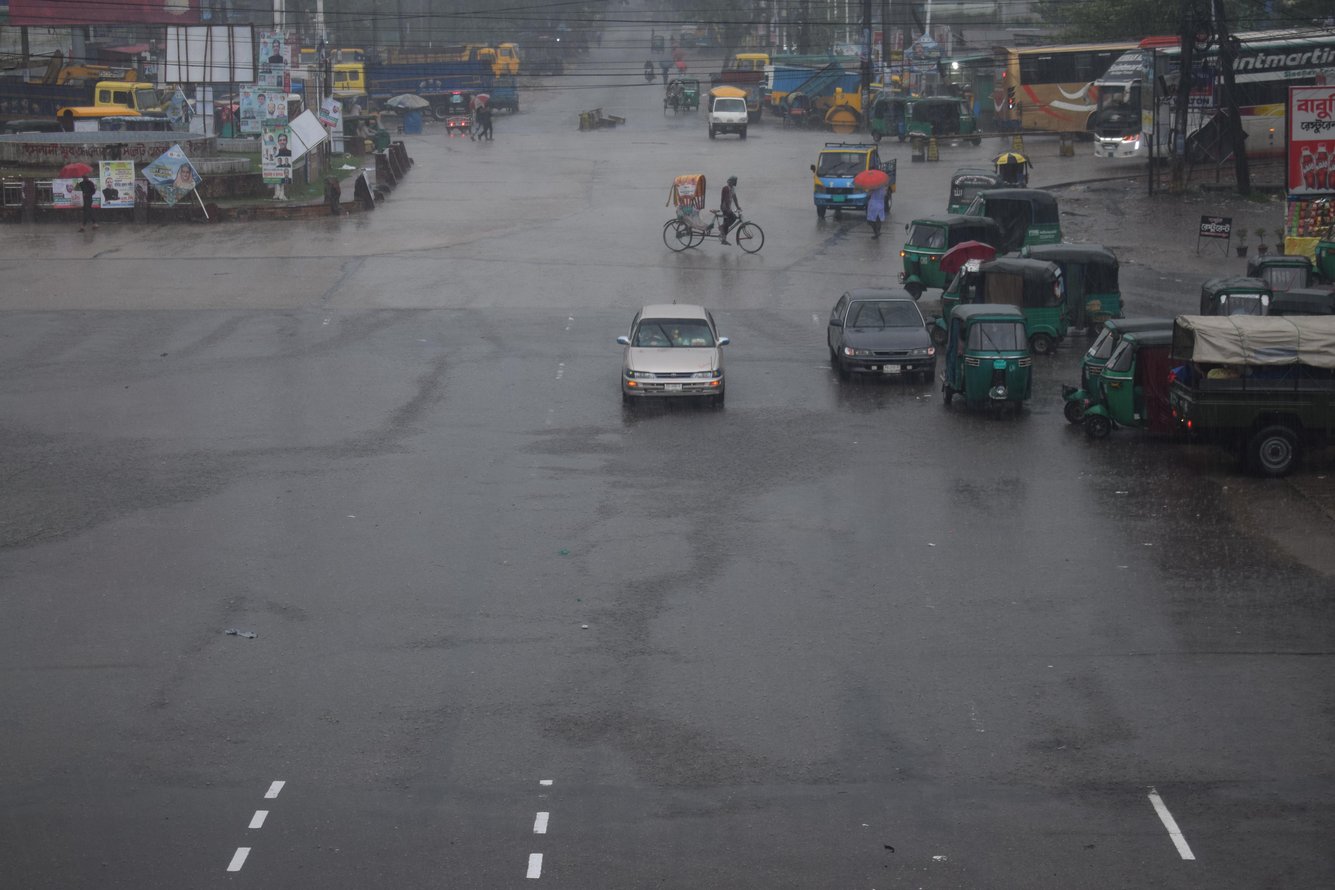Bus: (1112, 19, 1335, 193), (973, 21, 1204, 147)
Car: (798, 245, 969, 431), (569, 278, 772, 430), (648, 147, 789, 273), (687, 72, 758, 146), (428, 72, 487, 140)
Truck: (1156, 299, 1335, 506), (310, 42, 491, 121), (789, 118, 908, 236), (72, 56, 182, 138)
